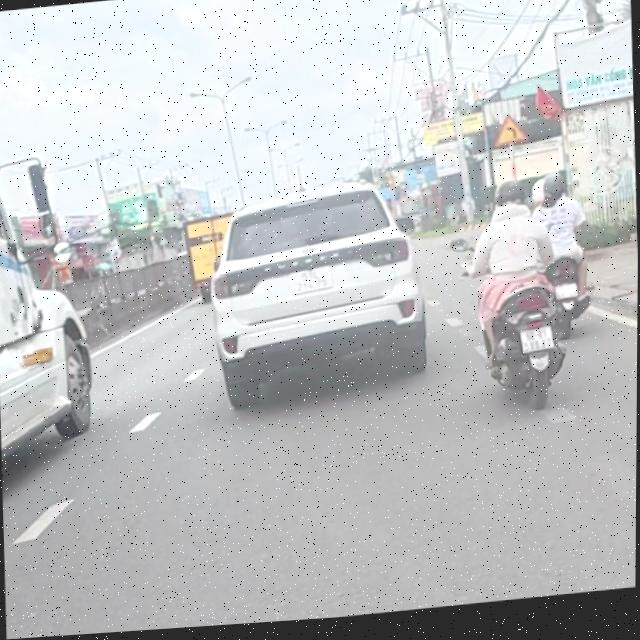car: (211, 174, 432, 413)
motorcycle: (489, 276, 561, 409), (544, 247, 596, 337)
plate: (289, 263, 339, 299), (517, 325, 559, 357), (553, 275, 579, 306)
